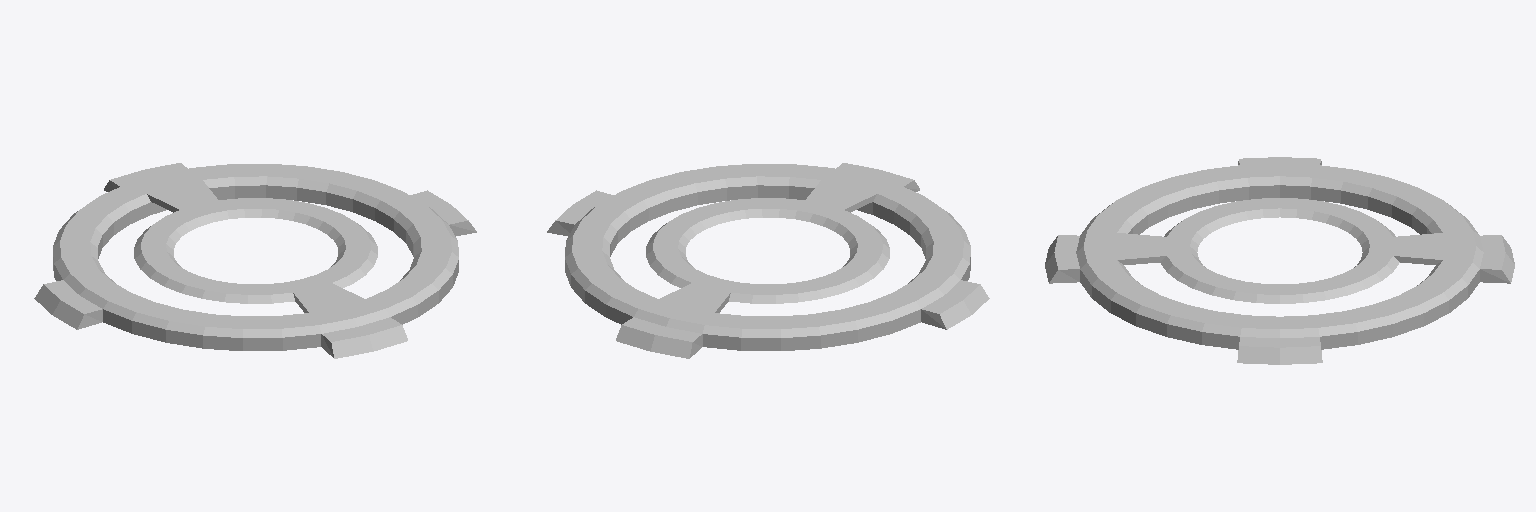
The model's file is teleporter.obj.
3 renders of one model, left to right at view 1: azimuth 30°, elevation 25°; view 2: azimuth 150°, elevation 25°; view 3: azimuth 270°, elevation 25°, orthographic.
Parts seen in each view (by area): view 1: Circle.001_Circle.003; view 2: Circle.001_Circle.003; view 3: Circle.001_Circle.003.
Part boxes in pixels (left/top/right/bottom): Circle.001_Circle.003: left=34, top=163, right=476, bottom=358; Circle.001_Circle.003: left=547, top=163, right=989, bottom=358; Circle.001_Circle.003: left=1045, top=157, right=1514, bottom=364.
Size of the model in its own units: 2.31 by 0.1034 by 2.31.